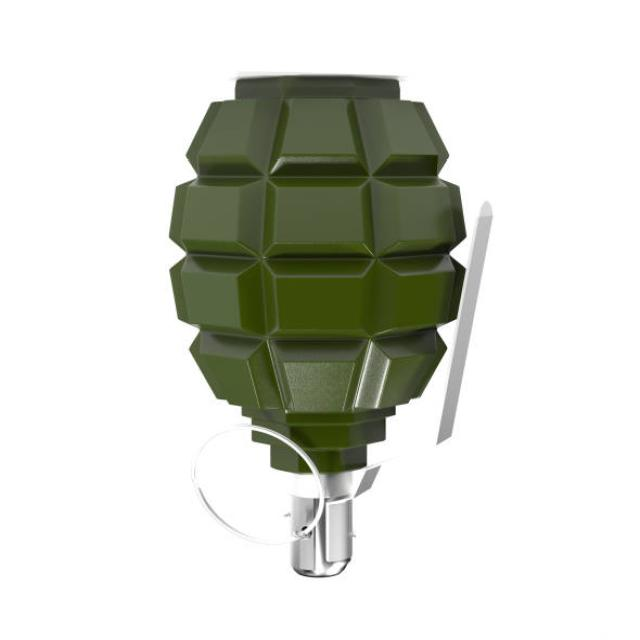grenade: (157, 61, 506, 600)
